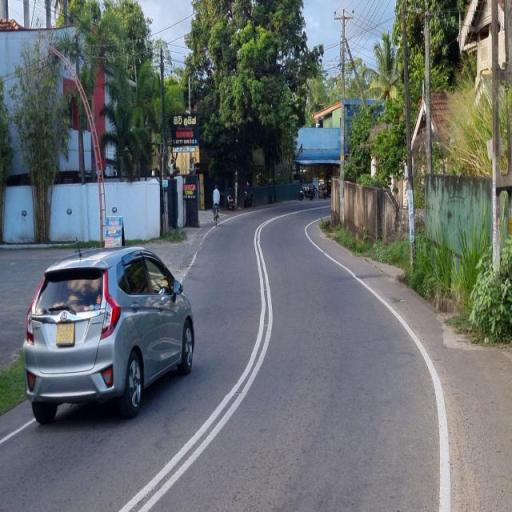double_white_line: (115, 210, 274, 511)
